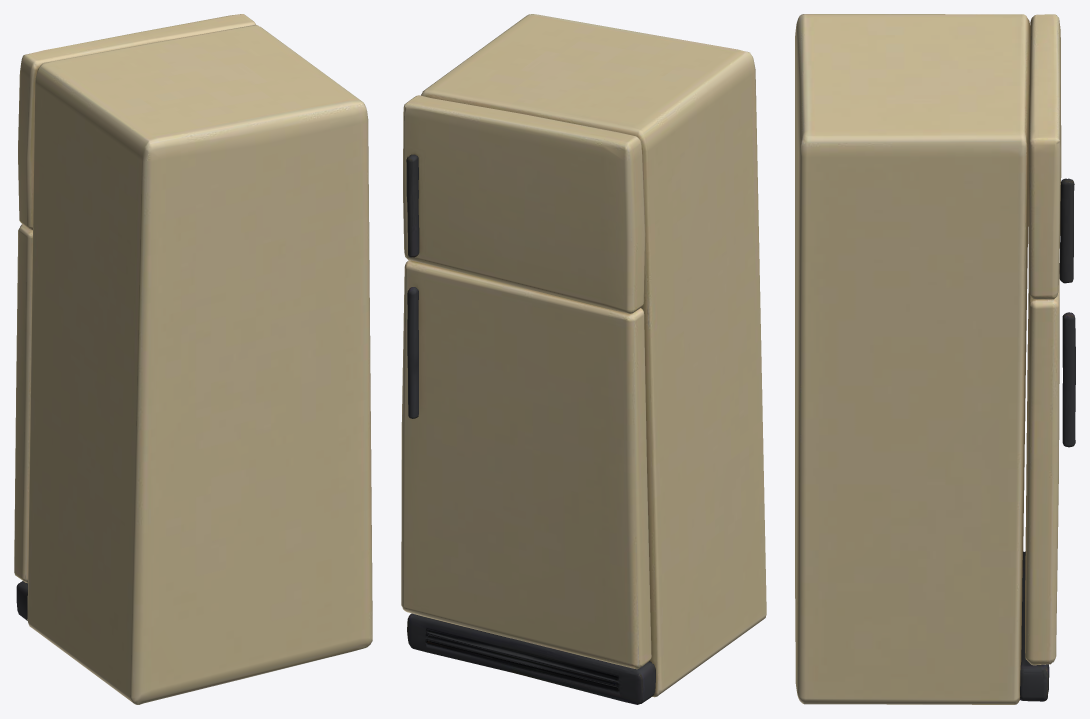
The model's file is apartment-fridge.glb.
The picture shows the model from 3 angles, left to right: view 1: azimuth 30°, elevation 25°; view 2: azimuth 150°, elevation 25°; view 3: azimuth 270°, elevation 25°; orthographic projection. The views are drawn at different scales.
Visible parts, largest first — view 1: apartment-fridge; view 2: apartment-fridge; view 3: apartment-fridge.
Part boxes in pixels (x1=…): apartment-fridge: x1=14, y1=14, x2=372, y2=704; apartment-fridge: x1=401, y1=14, x2=766, y2=704; apartment-fridge: x1=795, y1=14, x2=1075, y2=704.
Size of the model in its own units: 0.8 by 1.76 by 0.7688.
Materials: 1 (1 with a texture image).
